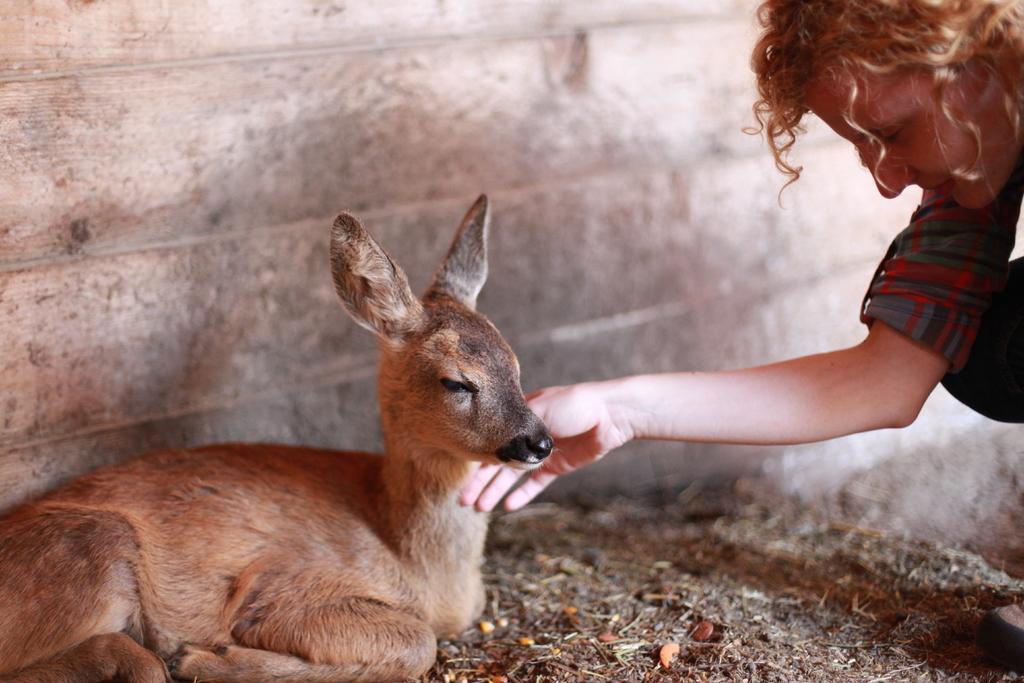kangaroo: (0, 192, 553, 682)
